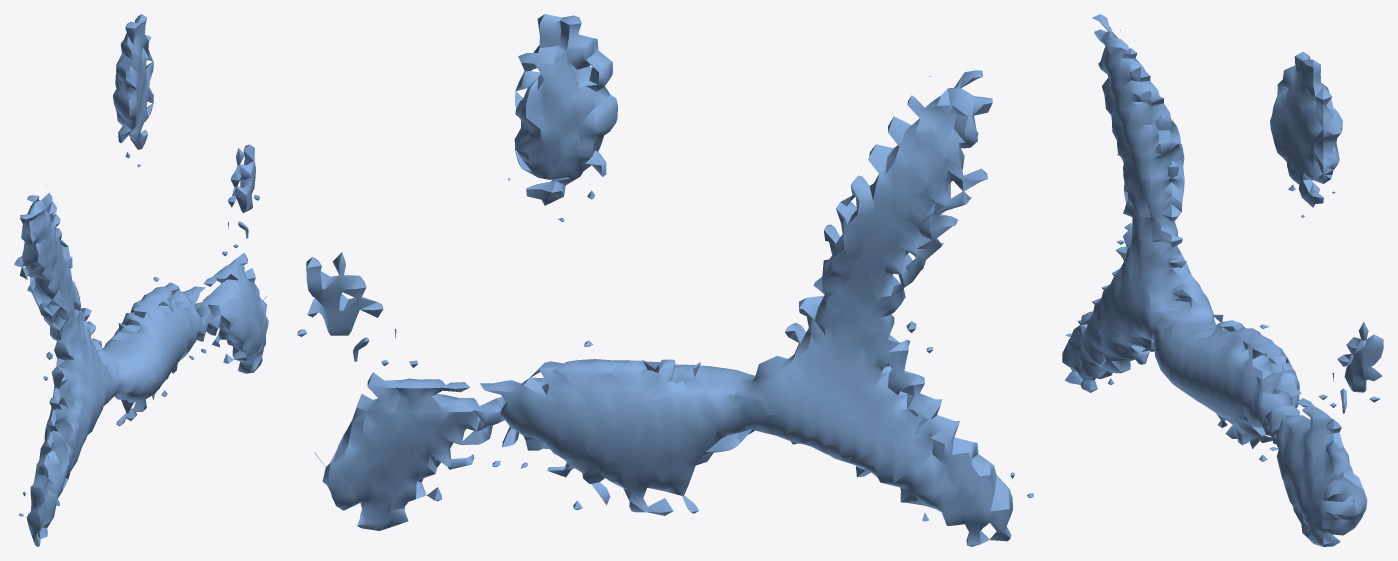
File: envelope.mollified.dcfs.-.glb
3 renders of one model, left to right at view 1: azimuth 30°, elevation 25°; view 2: azimuth 150°, elevation 25°; view 3: azimuth 270°, elevation 25°, orthographic. The views are drawn at different scales.
Visible parts, largest first — view 1: envelope.mollified.dcfs.-; view 2: envelope.mollified.dcfs.-; view 3: envelope.mollified.dcfs.-.
Part boxes in pixels (x1,y1,x2,y2): envelope.mollified.dcfs.-: [14, 14, 268, 546]; envelope.mollified.dcfs.-: [297, 14, 1033, 546]; envelope.mollified.dcfs.-: [1062, 14, 1383, 546].
Bounding box in the file's own units: 9.52 × 9.6 × 6.35.
